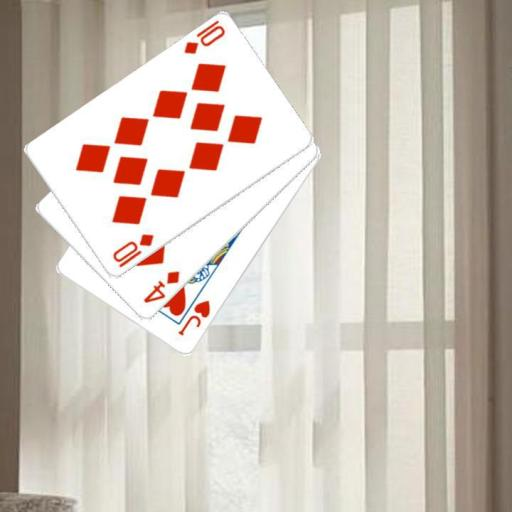10D: (109, 231, 155, 270), (181, 17, 227, 56)
4D: (140, 268, 181, 305)
JH: (175, 297, 212, 338)
